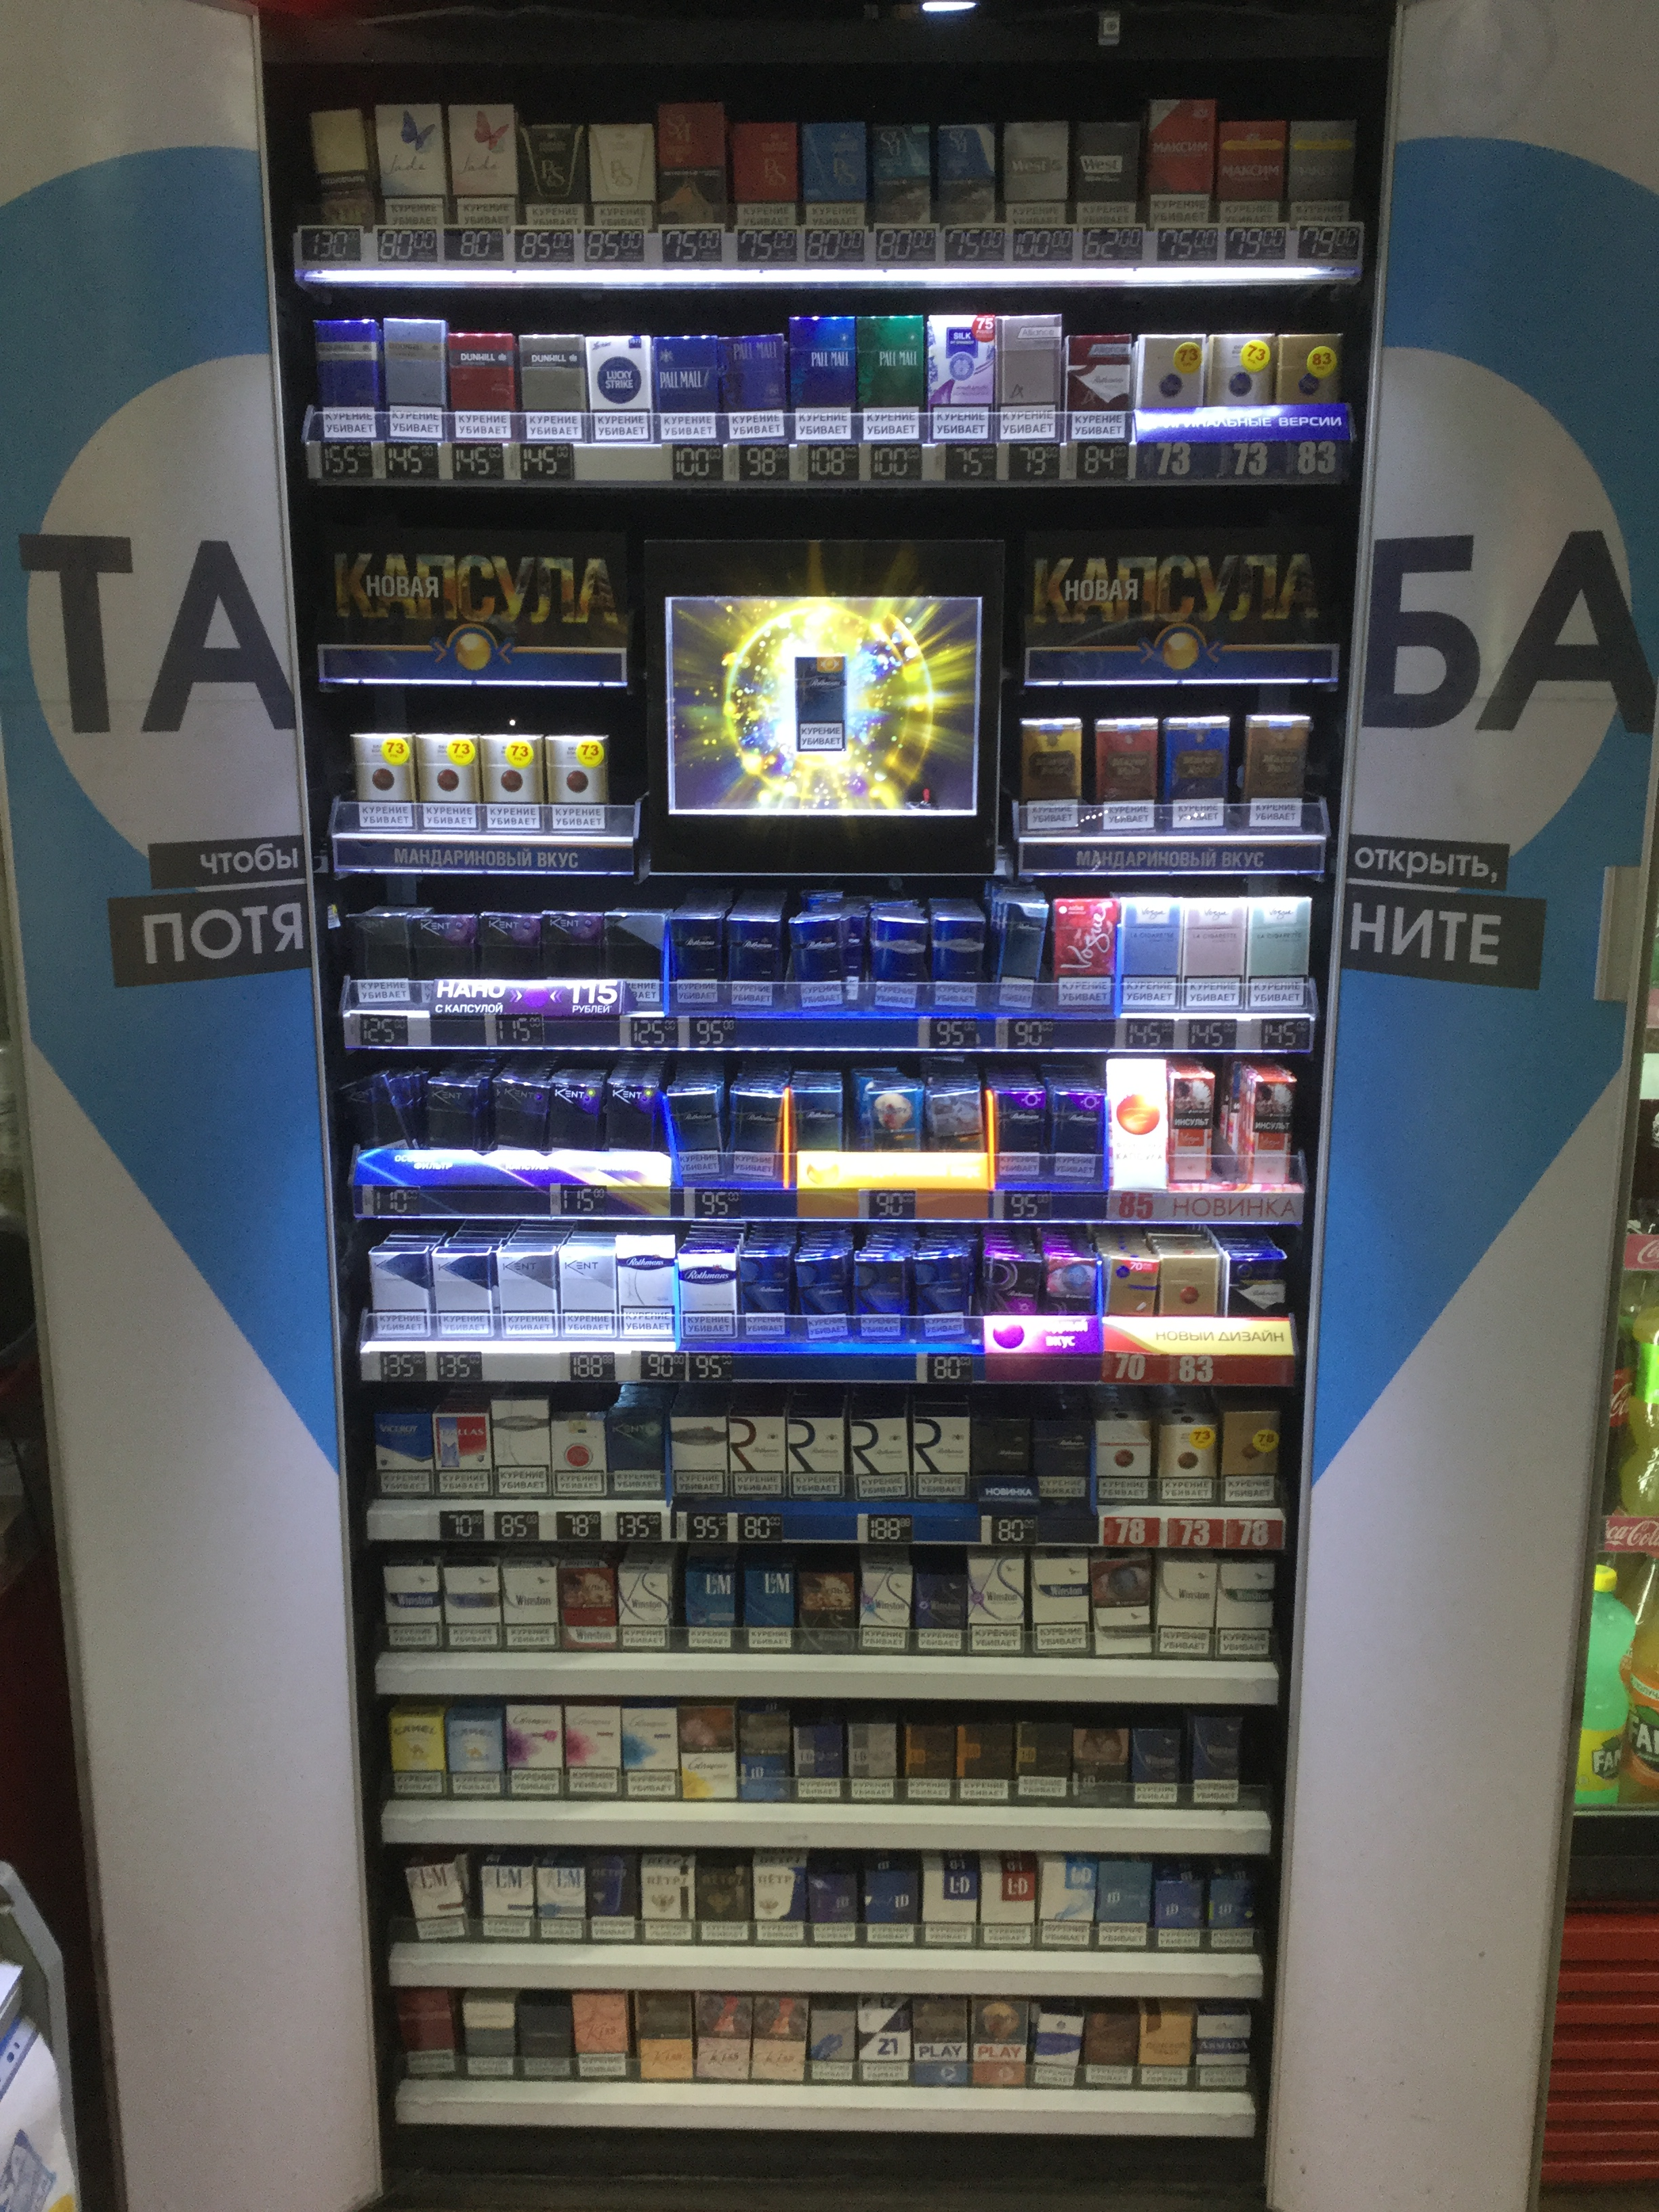alliance: (997, 314, 1065, 442), (1065, 331, 1134, 444)
armada: (1190, 2003, 1251, 2092)
camel: (389, 1709, 444, 1804), (446, 1707, 502, 1801)
dunhil: (382, 312, 448, 441), (448, 326, 514, 449), (312, 317, 380, 437), (521, 331, 589, 439)
jade: (371, 101, 451, 232), (443, 101, 518, 233)
java: (1279, 327, 1345, 444), (544, 726, 610, 841), (1206, 333, 1276, 439), (479, 732, 545, 836), (349, 732, 418, 829), (415, 733, 481, 834), (1140, 333, 1199, 442), (1222, 1407, 1283, 1503), (1159, 1245, 1220, 1334), (549, 1413, 608, 1503), (1159, 1420, 1218, 1507), (1103, 1251, 1159, 1336), (1096, 1418, 1150, 1503)
kent: (338, 1073, 408, 1174), (493, 1242, 558, 1346), (345, 913, 411, 1014), (432, 1242, 497, 1345), (540, 904, 603, 1008), (558, 1240, 619, 1346), (413, 913, 477, 1010), (368, 1244, 432, 1339), (425, 1073, 486, 1174), (483, 909, 542, 1012), (606, 1407, 667, 1503), (606, 911, 664, 1012), (495, 1071, 549, 1174), (603, 1075, 660, 1167), (552, 1075, 606, 1165)
kiss: (634, 1991, 695, 2090), (575, 1987, 629, 2087), (695, 1994, 751, 2090), (751, 1987, 803, 2087)
ld: (735, 1705, 793, 1808), (1012, 1712, 1070, 1811), (1094, 1855, 1152, 1954), (842, 1717, 903, 1810), (1039, 1853, 1093, 1956), (863, 1860, 918, 1952), (955, 1714, 1012, 1803), (1072, 1723, 1133, 1806), (920, 1858, 972, 1954), (981, 1862, 1033, 1954), (903, 1717, 955, 1806), (809, 1864, 861, 1949), (789, 1719, 842, 1803), (1204, 1871, 1255, 1956), (1152, 1876, 1204, 1954)
lm: (399, 1853, 471, 1944), (479, 1860, 537, 1946), (741, 1568, 793, 1660), (533, 1860, 586, 1949), (688, 1561, 739, 1646)
luckystrike: (589, 333, 652, 439)
maxim: (1147, 98, 1215, 230), (1218, 117, 1286, 232), (1293, 118, 1358, 232)
pack: (301, 101, 376, 235), (1093, 714, 1162, 833), (1244, 712, 1312, 831), (1164, 716, 1229, 833), (1018, 714, 1084, 827), (676, 1702, 739, 1808), (432, 1407, 497, 1503), (505, 1698, 563, 1803), (622, 1702, 680, 1806), (375, 1406, 436, 1503), (565, 1700, 622, 1803), (1223, 1251, 1290, 1339), (854, 1993, 911, 2094), (512, 1991, 573, 2083), (399, 1984, 457, 2081), (1136, 2003, 1192, 2094), (464, 1994, 519, 2078), (1026, 2000, 1077, 2090), (1089, 2005, 1138, 2090), (809, 2003, 854, 2087)
pallmall: (852, 315, 925, 441), (788, 315, 857, 439), (716, 333, 789, 441), (652, 333, 721, 441)
petrpervii: (641, 1851, 697, 1947), (580, 1853, 636, 1946), (695, 1855, 749, 1949), (753, 1857, 809, 1947)
play: (969, 1989, 1028, 2092), (911, 1991, 971, 2092)
ps: (652, 103, 732, 235), (516, 122, 591, 239), (728, 118, 800, 235), (587, 120, 657, 237), (796, 118, 868, 232), (870, 120, 938, 230), (934, 120, 999, 230)
rothmans: (852, 1075, 924, 1186), (920, 1083, 990, 1186), (615, 1231, 678, 1341), (662, 1082, 725, 1188), (911, 1247, 976, 1348), (784, 1082, 845, 1188), (789, 907, 850, 1012), (678, 1240, 739, 1345), (725, 1080, 781, 1191), (993, 899, 1046, 1017), (490, 1395, 549, 1500), (725, 1413, 789, 1507), (1046, 1085, 1103, 1190), (852, 1251, 911, 1350), (988, 1085, 1046, 1186), (796, 1247, 854, 1348), (847, 1414, 910, 1507), (929, 913, 988, 1008), (784, 1414, 845, 1507), (739, 1249, 796, 1345), (669, 1411, 728, 1503), (873, 913, 925, 1017), (793, 655, 849, 752), (725, 914, 781, 1012), (910, 1414, 971, 1503), (983, 1251, 1042, 1341), (1033, 1416, 1091, 1507), (667, 913, 721, 1007), (1042, 1251, 1101, 1336), (972, 1416, 1032, 1500)
silk: (931, 310, 997, 441)
vogue: (1051, 895, 1119, 1019), (1119, 897, 1183, 1021), (1236, 1064, 1295, 1188), (1246, 895, 1307, 1012), (1183, 897, 1243, 1014), (1168, 1071, 1213, 1186)
west: (1068, 115, 1140, 232), (1004, 122, 1073, 232)
winston: (1091, 1548, 1152, 1662), (1026, 1548, 1089, 1656), (964, 1554, 1026, 1656), (1216, 1555, 1276, 1658), (1155, 1555, 1213, 1658), (1188, 1712, 1244, 1811), (382, 1561, 441, 1651), (441, 1564, 500, 1653), (500, 1561, 558, 1651), (558, 1561, 615, 1649), (615, 1568, 671, 1656), (798, 1571, 852, 1662), (911, 1569, 971, 1651), (1131, 1723, 1183, 1811), (864, 1568, 915, 1653)
